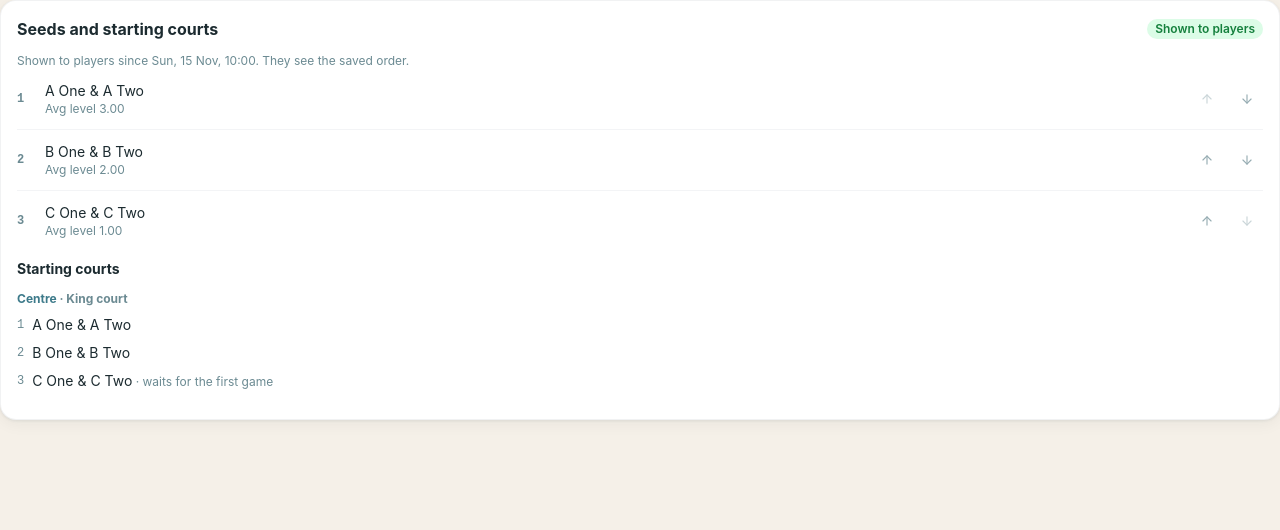
KingOfCourtAdmin — seeds › shows a save failure
Click the button named "Move B One & B Two up" at (1207, 160), box [1191,144,1223,176]
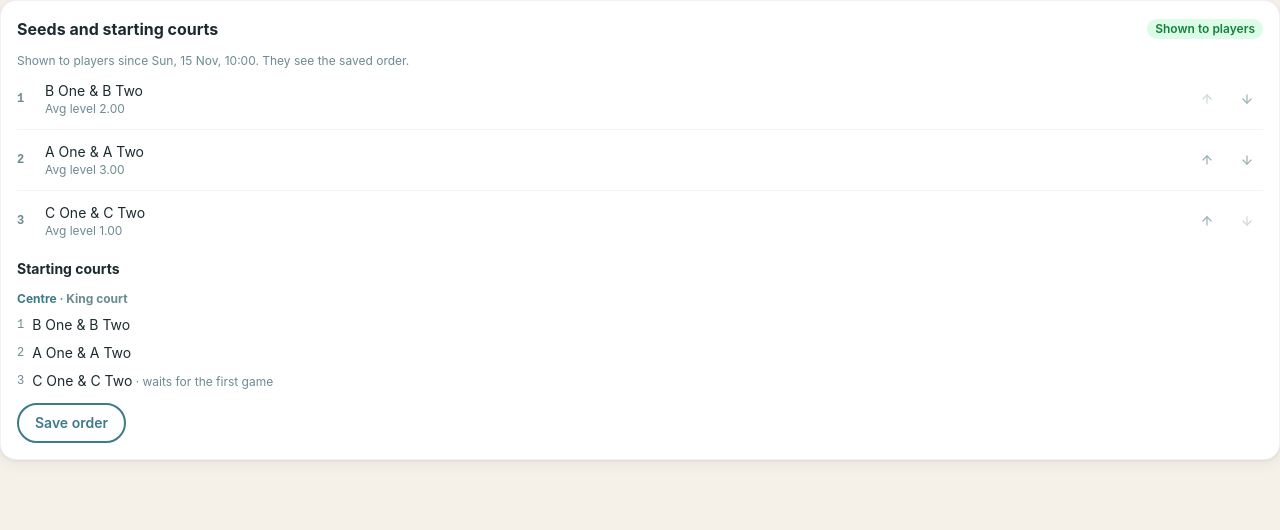
Click the button "Save order" at (72, 423), box [17,403,126,443]
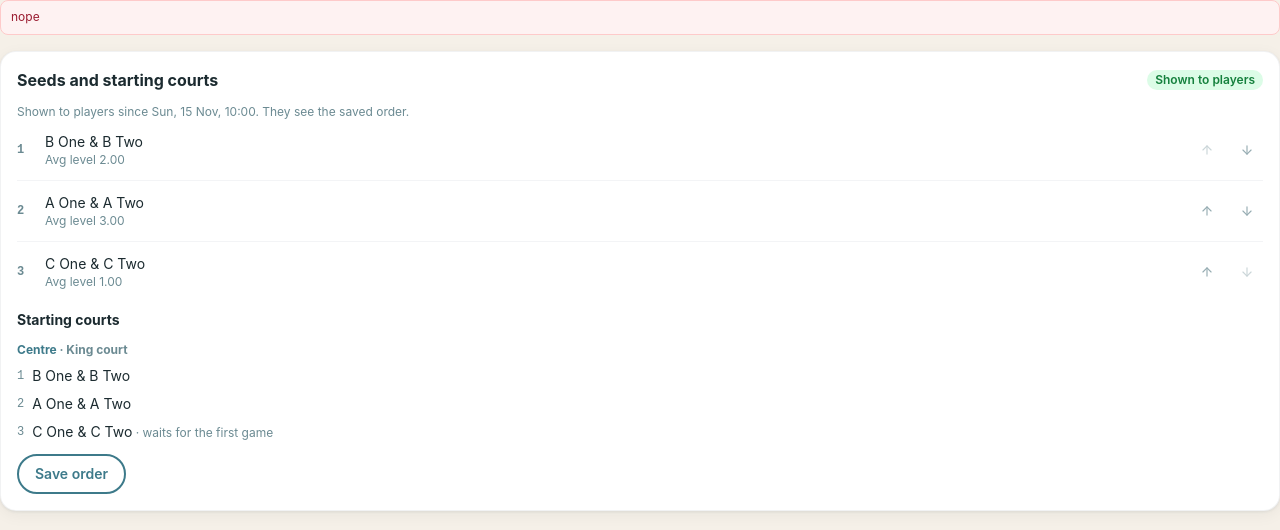
Expected: the message "nope" is shown, [0,0,1279,34]
